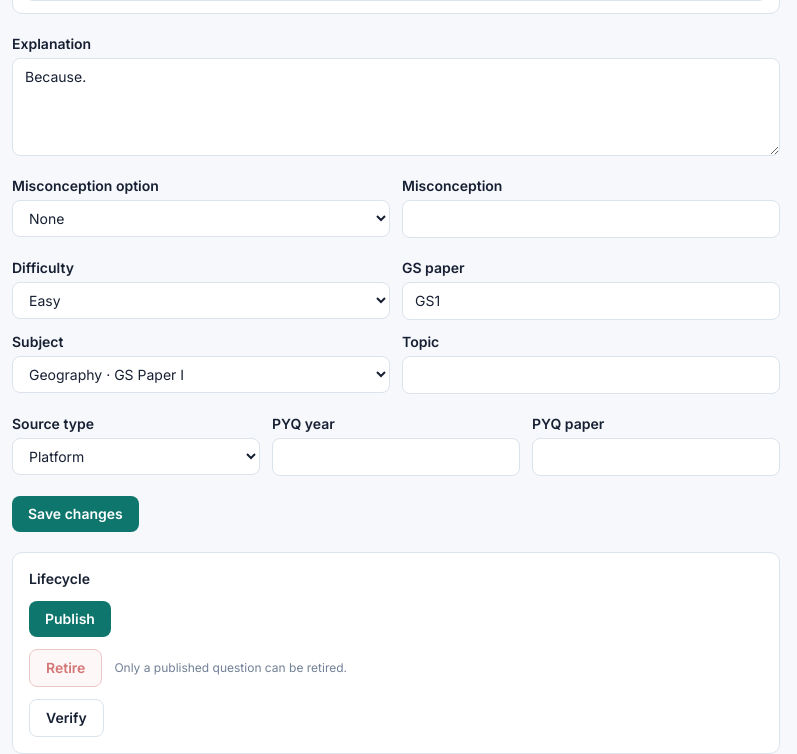
Test: QuestionForm actions › shows the server's missing list when publish is refused
(page scrolled)
Click the button "Publish" at [70, 619], box [29,601,111,637]
(page scrolled)
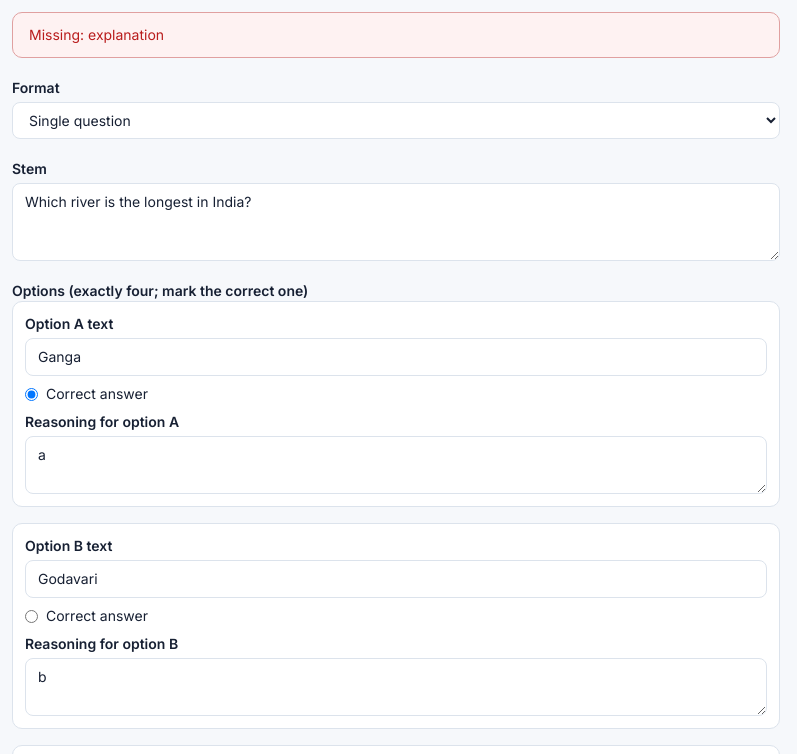
Check: the message reads "Missing: explanation", box [29,26,164,43]
